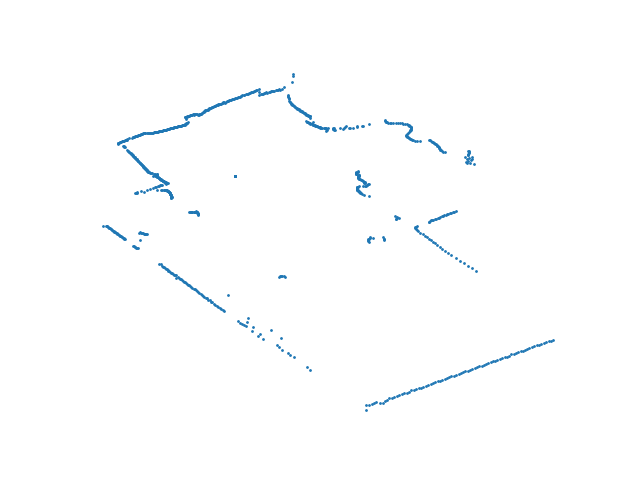person: (353, 168, 373, 199)
